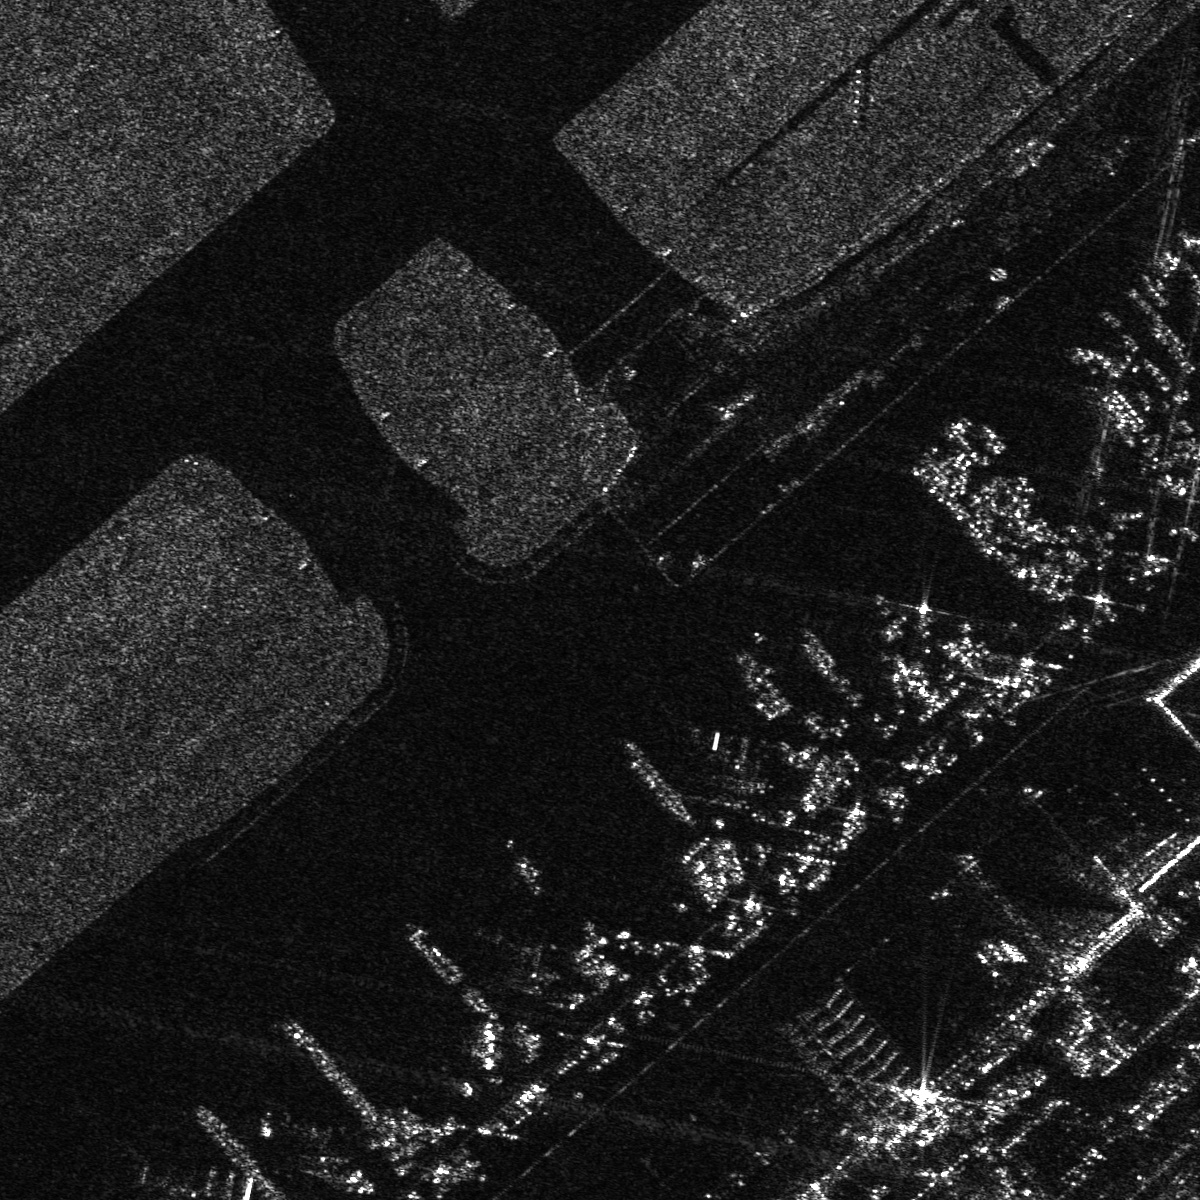Boeing787: (267, 1104, 374, 1189)
other: (688, 723, 780, 803), (475, 925, 558, 986)
